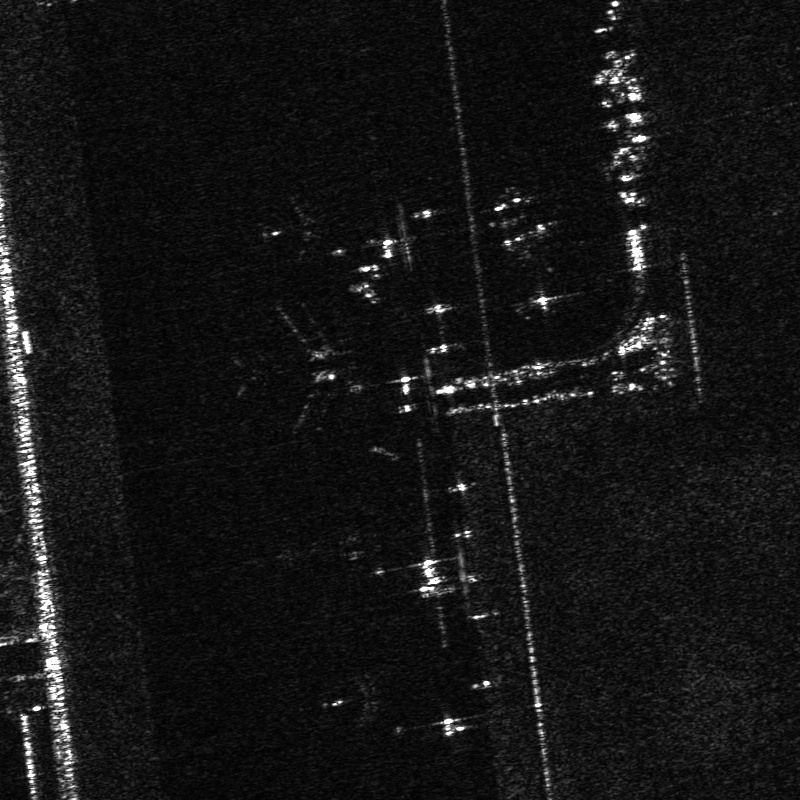Boeing787: (228, 296, 357, 433), (253, 189, 330, 262), (319, 663, 394, 731)
